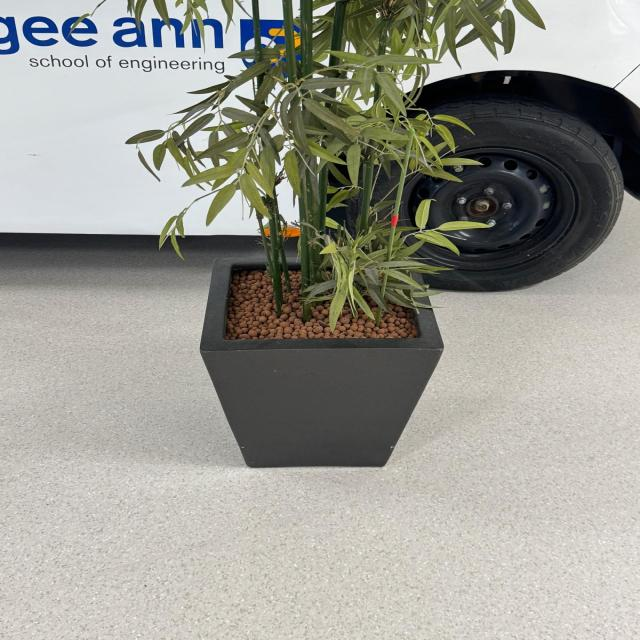Pot: (200, 254, 446, 467)
